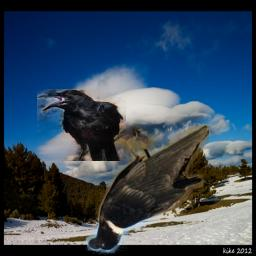Crow: (86, 125, 209, 255), (37, 89, 126, 161)
